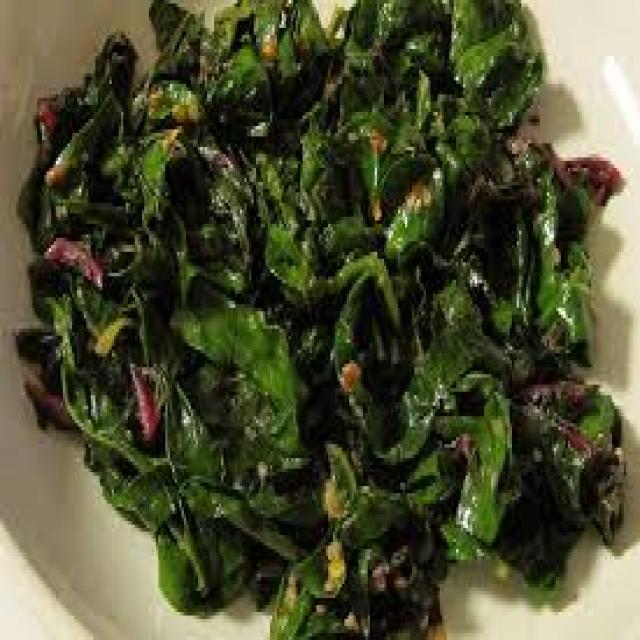organic waste: (14, 0, 624, 637), (149, 199, 391, 458), (266, 444, 444, 637), (379, 203, 519, 444), (219, 35, 414, 206), (12, 24, 135, 252), (154, 416, 291, 612), (12, 245, 151, 437), (84, 406, 258, 532), (512, 367, 628, 549), (398, 367, 507, 556), (130, 32, 219, 242), (144, 0, 323, 91), (524, 157, 594, 357), (444, 0, 544, 129), (326, 0, 449, 98), (402, 91, 487, 220), (489, 507, 584, 588), (477, 126, 559, 199), (556, 147, 619, 199)
